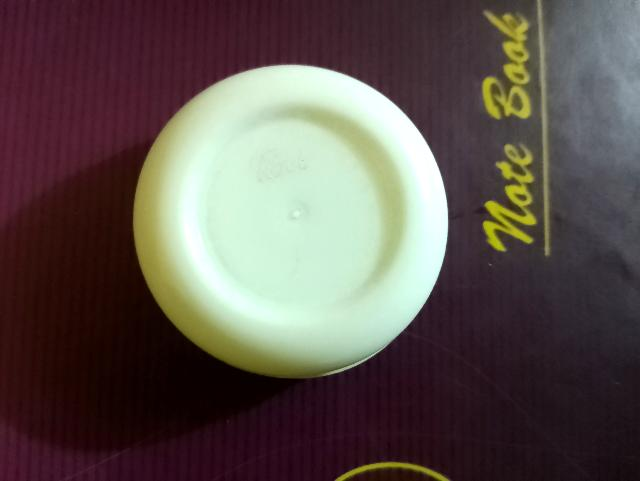hardplastic: (103, 34, 460, 398)
